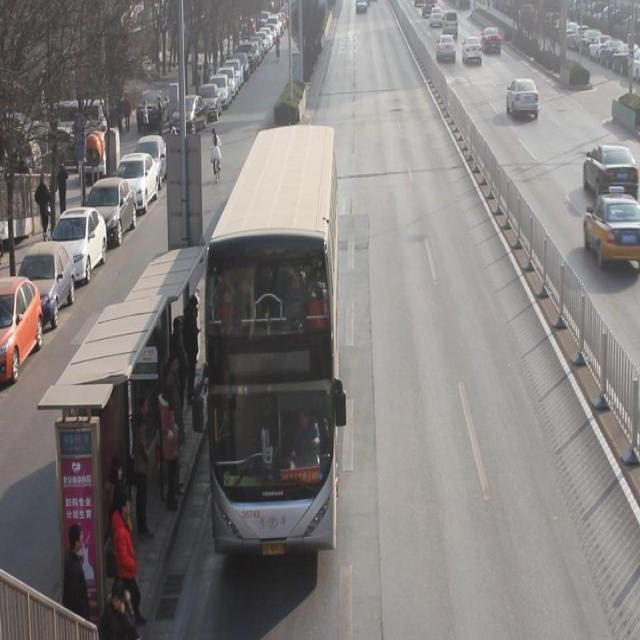car: (584, 185, 640, 272), (584, 143, 632, 203), (507, 77, 540, 123), (461, 36, 483, 68), (436, 33, 456, 65), (480, 26, 502, 55), (429, 8, 444, 30)
truck: (441, 8, 459, 39)
van: (205, 130, 337, 552)
